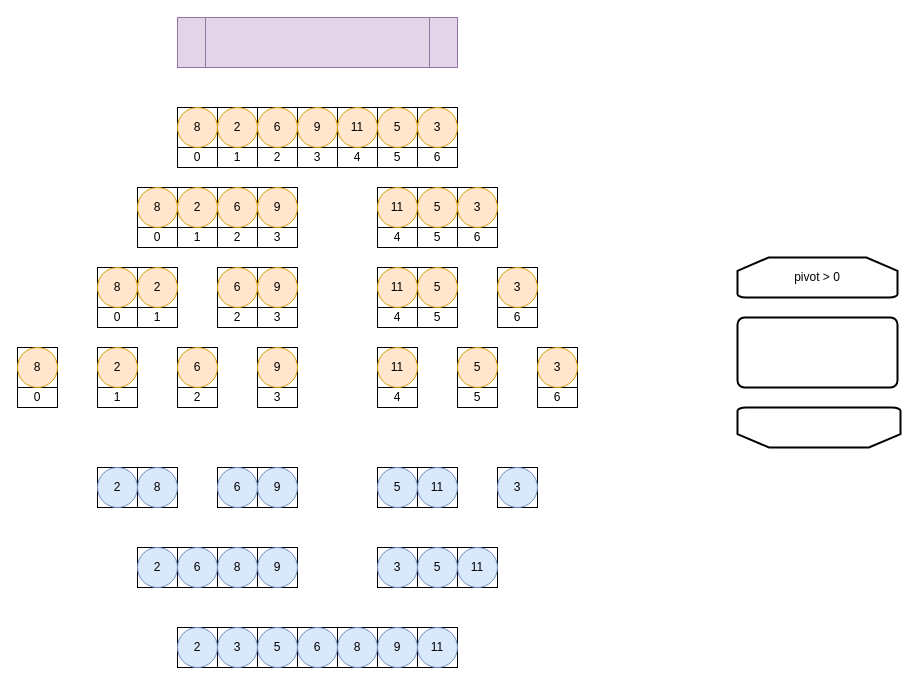
The diagram is 919 pixels wide and 685 high, and some of its shapes have lost their labels. Each missing label, with the centre of its shape:
arr.length / 2 -> pivot: (817,352)
Merge Sort: (317,42)
